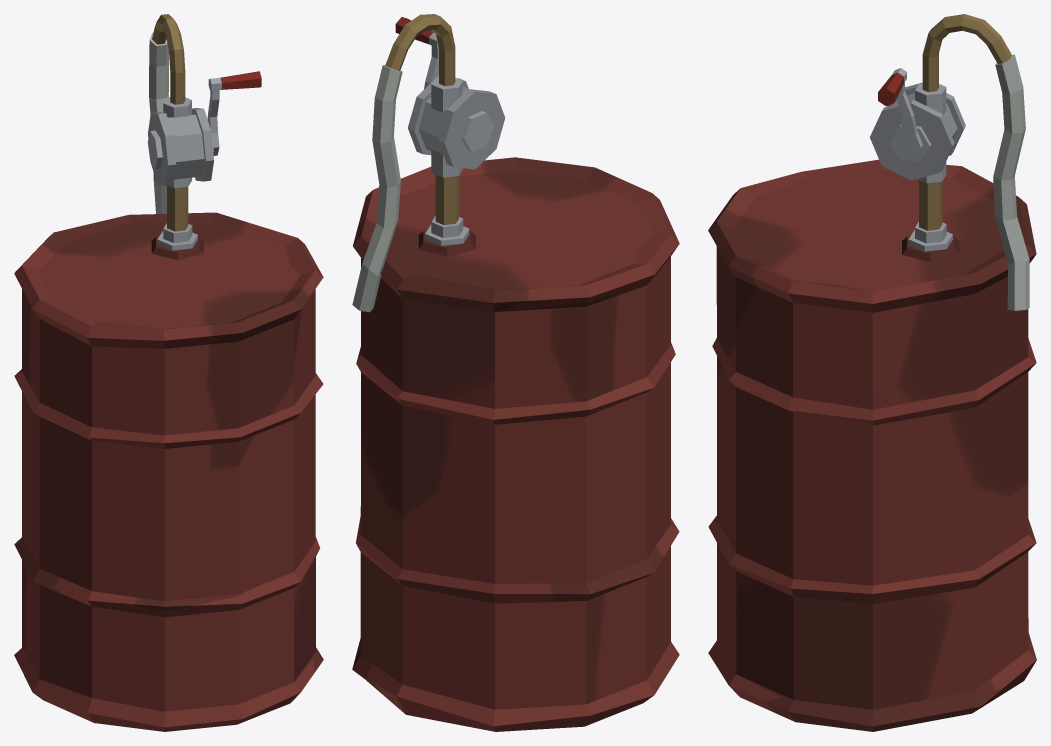
The model's file is SM_Prop_Barrel_Oil_01.fbx.
3 renders of one model, left to right at view 1: azimuth 30°, elevation 25°; view 2: azimuth 150°, elevation 25°; view 3: azimuth 270°, elevation 25°, orthographic. The views are drawn at different scales.
Parts seen in each view (by area): view 1: SM_Prop_Barrel_Oil_01, SM_Prop_Barrel_Oil_01_Pump, SM_Prop_Barrel_Oil_01_Handle; view 2: SM_Prop_Barrel_Oil_01, SM_Prop_Barrel_Oil_01_Pump, SM_Prop_Barrel_Oil_01_Handle; view 3: SM_Prop_Barrel_Oil_01, SM_Prop_Barrel_Oil_01_Pump, SM_Prop_Barrel_Oil_01_Handle.
Part boxes in pixels (bbox=[...]): SM_Prop_Barrel_Oil_01: bbox=[14, 212, 323, 731]; SM_Prop_Barrel_Oil_01_Pump: bbox=[147, 14, 214, 250]; SM_Prop_Barrel_Oil_01_Handle: bbox=[207, 71, 261, 155]; SM_Prop_Barrel_Oil_01: bbox=[352, 157, 679, 731]; SM_Prop_Barrel_Oil_01_Pump: bbox=[352, 14, 505, 312]; SM_Prop_Barrel_Oil_01_Handle: bbox=[395, 17, 438, 88]; SM_Prop_Barrel_Oil_01: bbox=[708, 159, 1036, 731]; SM_Prop_Barrel_Oil_01_Pump: bbox=[869, 14, 1029, 310]; SM_Prop_Barrel_Oil_01_Handle: bbox=[878, 68, 922, 159].
Size of the model in its own units: 72.61 by 159 by 70.52.
